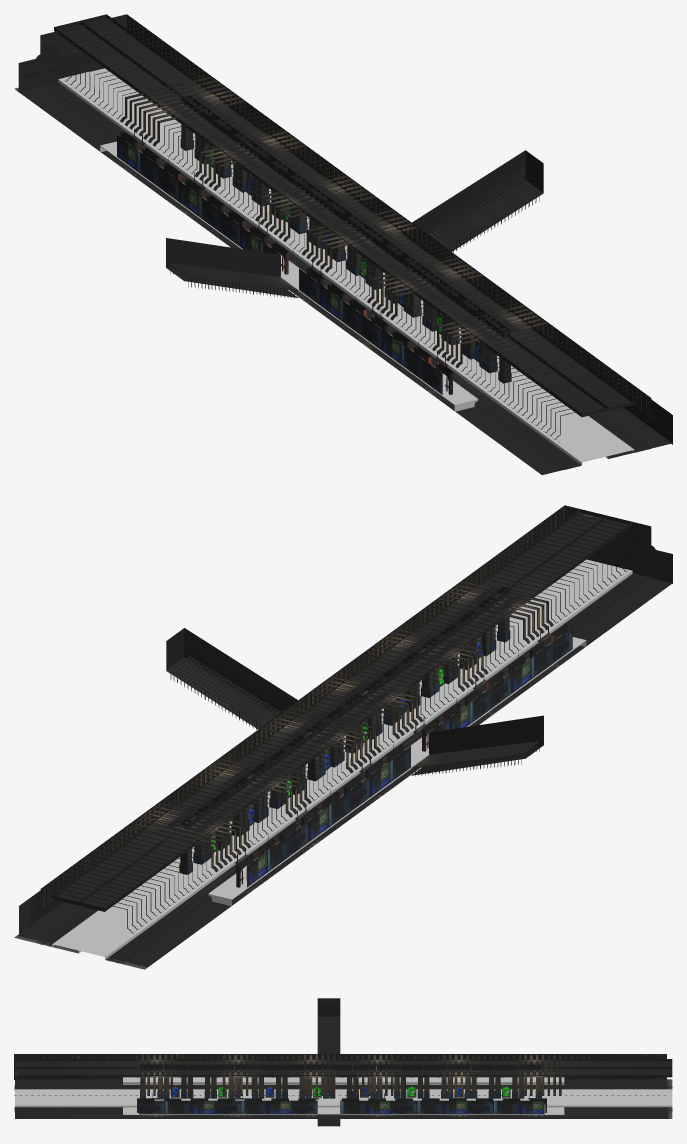
File: subway_env_final.fbx
3 renders of one model, top to bottom at view 1: azimuth 30°, elevation 25°; view 2: azimuth 150°, elevation 25°; view 3: azimuth 270°, elevation 25°, orthographic. The views are drawn at different scales.
Parts seen in each view (by area): view 1: subway_env, polySurface491, polySurface511, polySurface531, polySurface551, polySurface469, polySurface696, polySurface689, polySurface1623, polySurface571, polySurface660, polySurface1529 (+7 smaller); view 2: subway_env, polySurface491, polySurface511, polySurface531, polySurface551, polySurface696, polySurface469, polySurface689, polySurface1623, polySurface571, polySurface1529, polySurface660 (+7 smaller); view 3: subway_env, polySurface701, polySurface694, polySurface491, polySurface511, polySurface531, polySurface551, polySurface660, polySurface1529, polySurface646, polySurface631, polySurface627 (+6 smaller).
Boxes of the visible parts, box(x1,y1,x2,y2) form: subway_env: box(14, 14, 672, 474); polySurface491: box(367, 257, 548, 368); polySurface511: box(274, 188, 455, 299); polySurface531: box(181, 121, 362, 231); polySurface551: box(87, 53, 269, 163); polySurface469: box(460, 326, 654, 442); polySurface696: box(117, 135, 280, 276); polySurface689: box(299, 268, 442, 394); polySurface1623: box(428, 178, 539, 252); polySurface571: box(37, 15, 176, 95); polySurface660: box(447, 289, 511, 383); polySurface1529: box(170, 263, 297, 298); subway_env: box(14, 505, 672, 969); polySurface491: box(372, 580, 553, 691); polySurface511: box(278, 649, 460, 759); polySurface531: box(185, 716, 367, 827); polySurface551: box(92, 785, 273, 895); polySurface696: box(247, 746, 410, 887); polySurface469: box(465, 506, 655, 623); polySurface689: box(429, 627, 572, 732); polySurface1623: box(170, 656, 281, 730); polySurface571: box(37, 854, 180, 933); polySurface1529: box(412, 741, 539, 776); polySurface660: box(446, 586, 510, 679); subway_env: box(14, 998, 672, 1126); polySurface701: box(340, 1100, 544, 1114); polySurface694: box(139, 1100, 317, 1114); polySurface491: box(141, 1054, 254, 1095); polySurface511: box(257, 1054, 370, 1095); polySurface531: box(373, 1054, 486, 1095); polySurface551: box(489, 1054, 602, 1095); polySurface660: box(140, 1064, 210, 1098); polySurface1529: box(317, 1016, 340, 1053); polySurface646: box(258, 1064, 305, 1098); polySurface631: box(400, 1064, 447, 1098); polySurface627: box(447, 1064, 494, 1098).
Size of the model in its own units: 10203 by 2032 by 26010.
